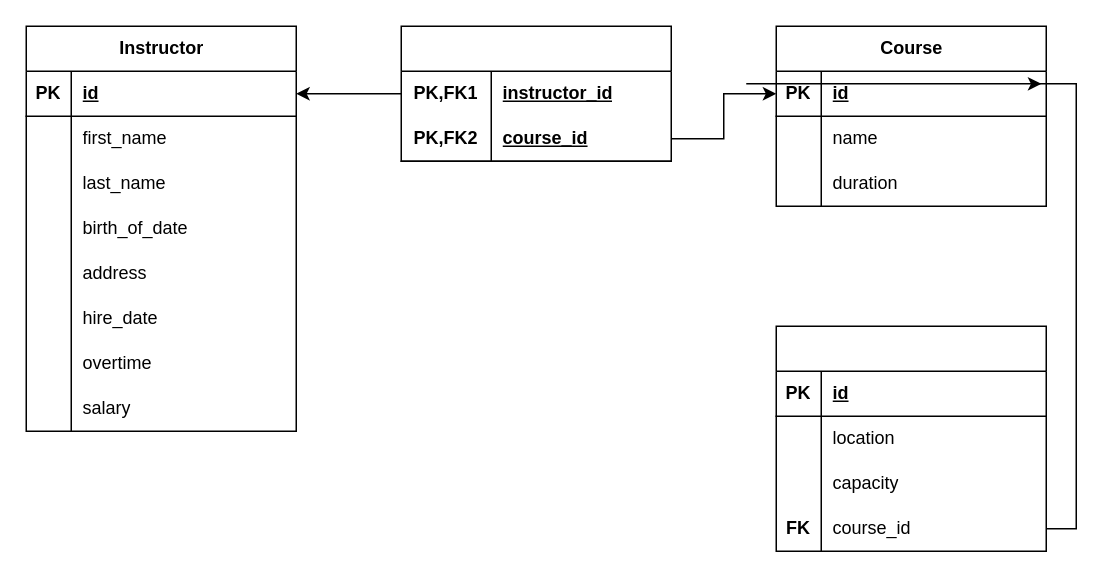
This 1115x578 diagram has some shape labels left out. Each missing label, with the box of its shape:
Lab: (775, 325, 1046, 551)
Teach: (400, 25, 671, 161)
